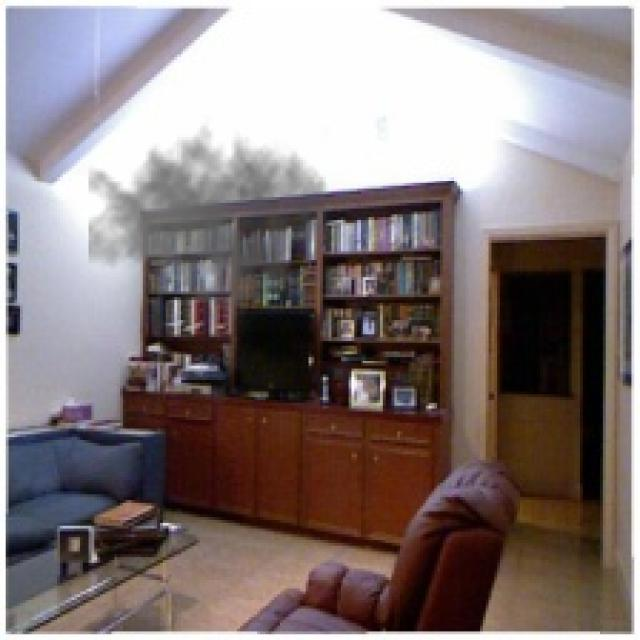smoke: (88, 114, 332, 314)
